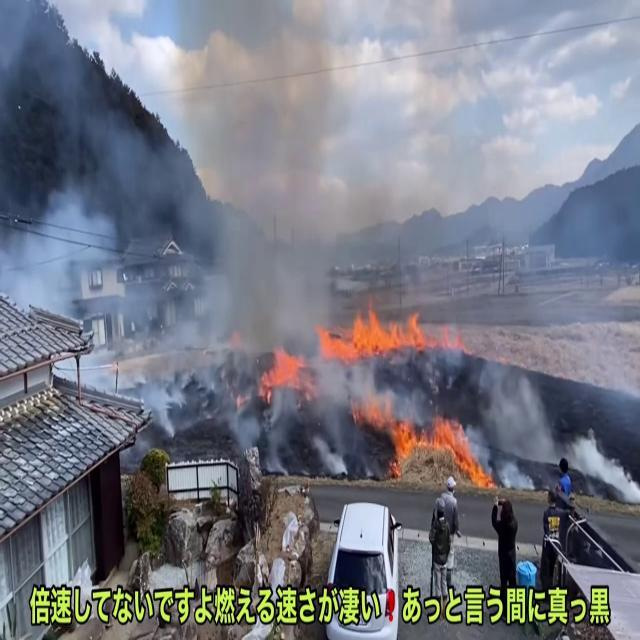Fire: (315, 295, 434, 367), (385, 409, 487, 481), (258, 335, 306, 400)
Smoke: (178, 0, 422, 374), (4, 4, 232, 399), (474, 329, 564, 462)
